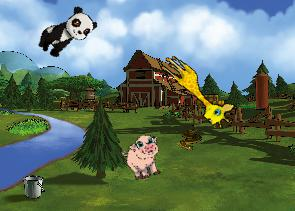giraffe: (151, 51, 239, 132)
panda: (33, 2, 99, 64)
pig: (119, 132, 168, 183)
